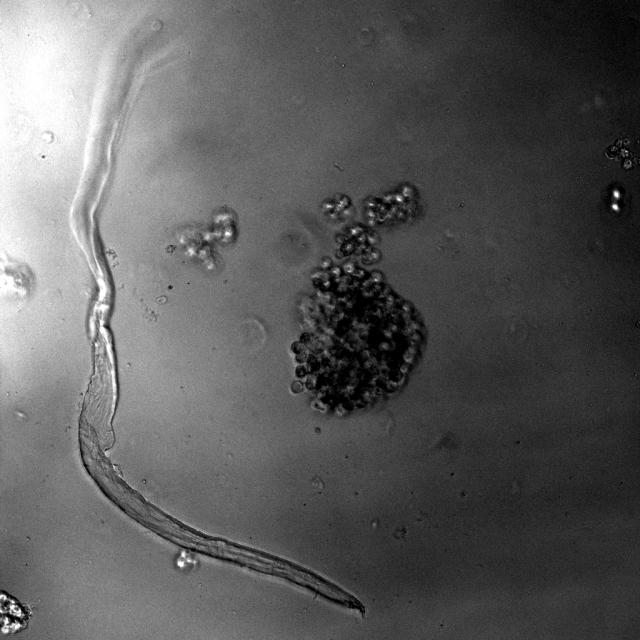organoid: (291, 183, 424, 414), (178, 205, 239, 269), (0, 589, 32, 634), (605, 136, 639, 170)
